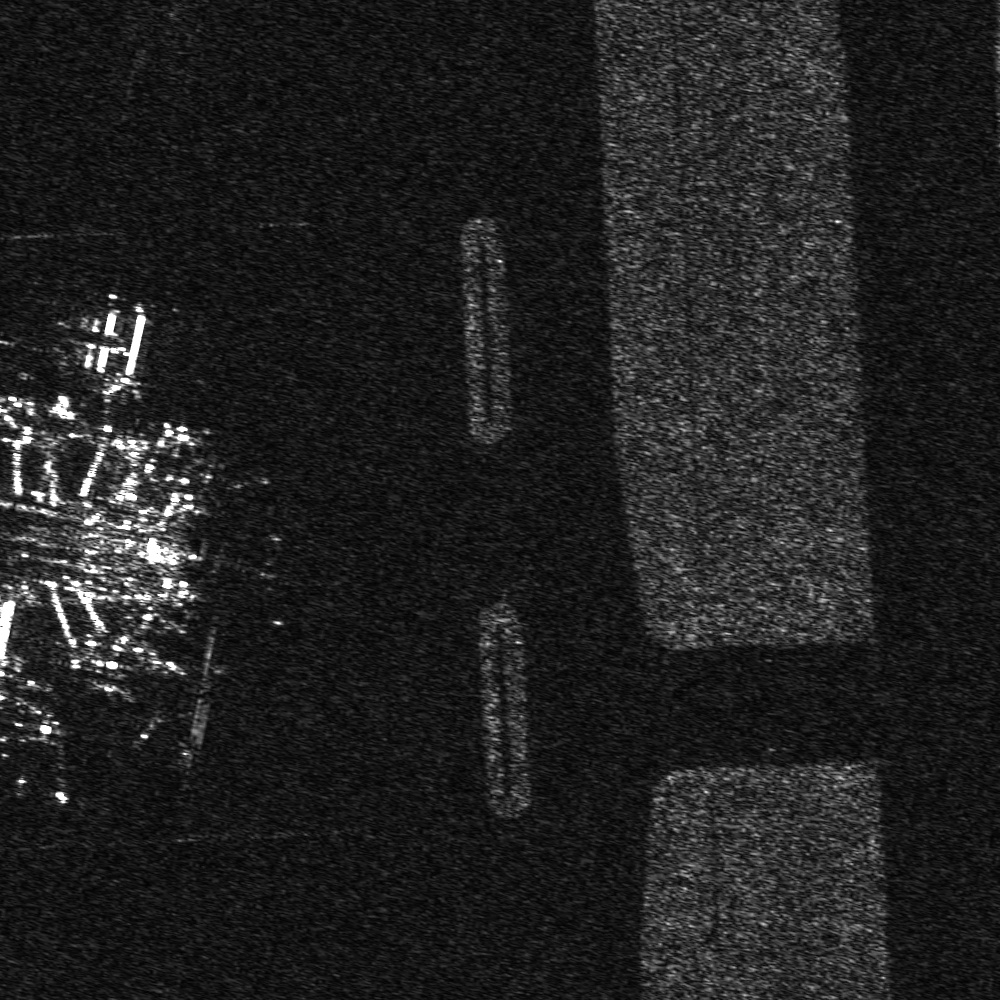A320/321: (120, 692, 209, 775)
